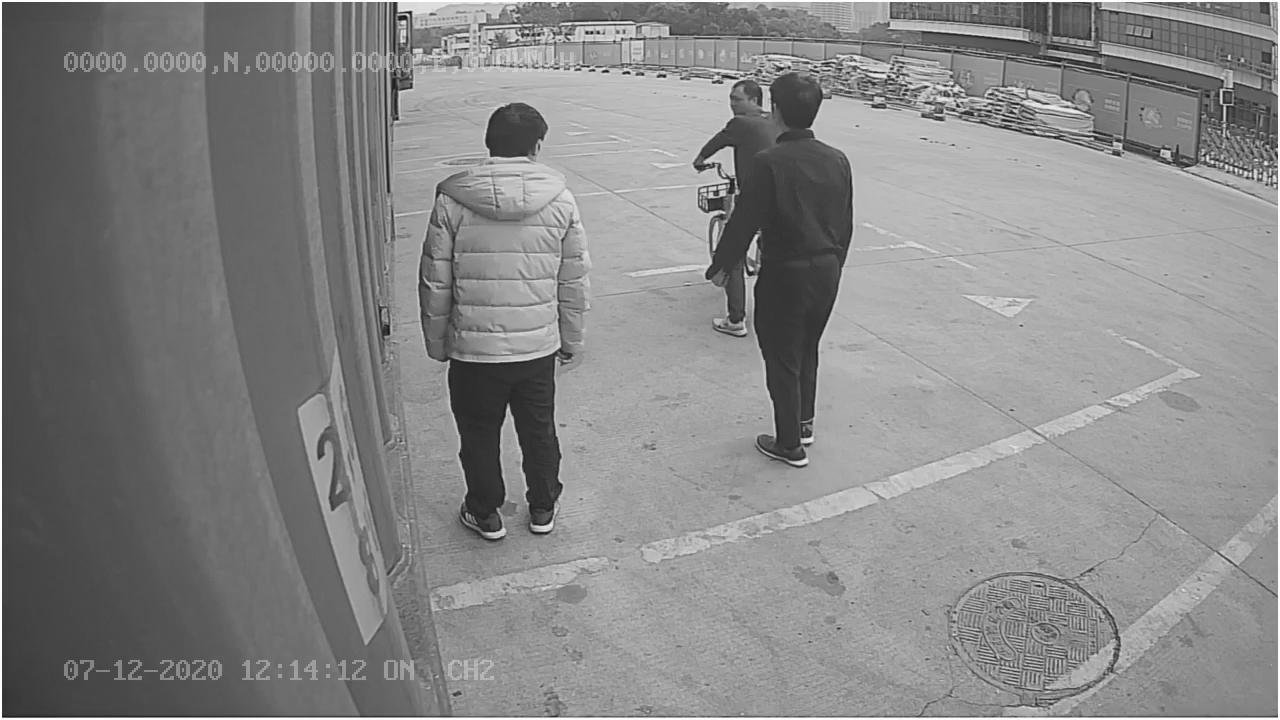person: (420, 96, 595, 540)
